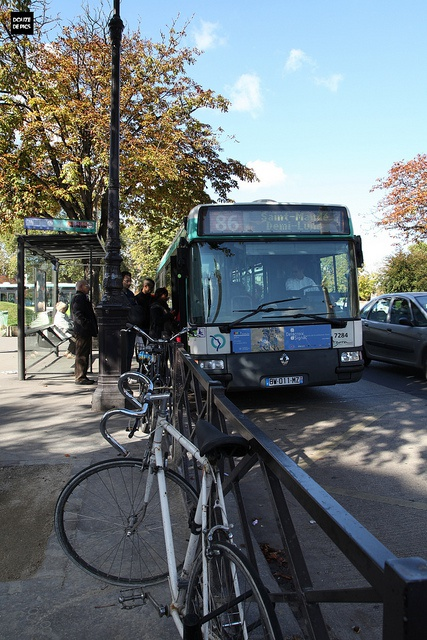non-vehicle: (62, 373, 276, 640), (117, 324, 198, 394)
